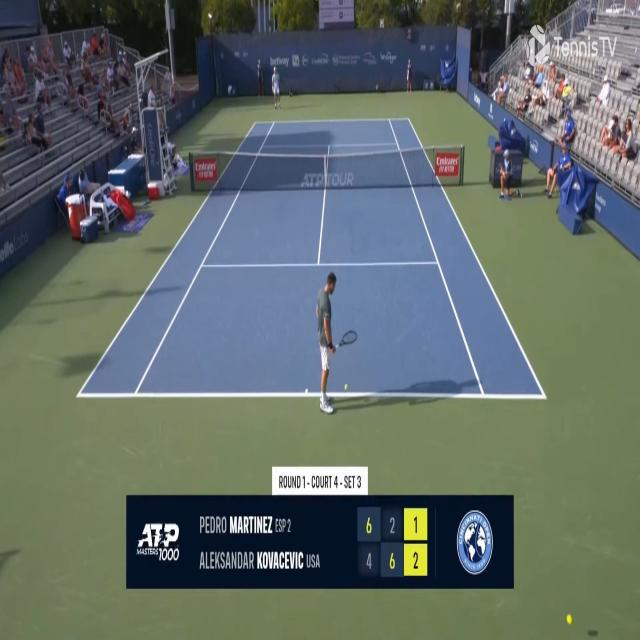tennis-player: (314, 270, 358, 416), (272, 62, 282, 109)
